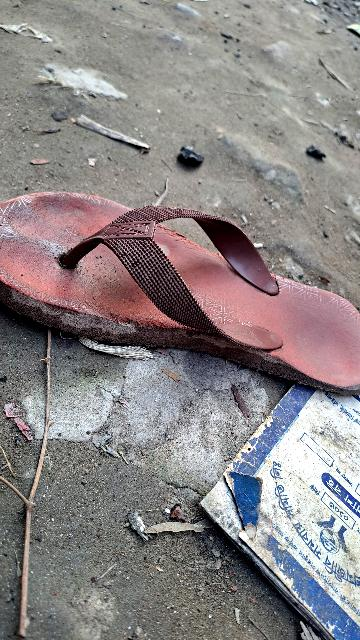sandal: (0, 162, 360, 408)
